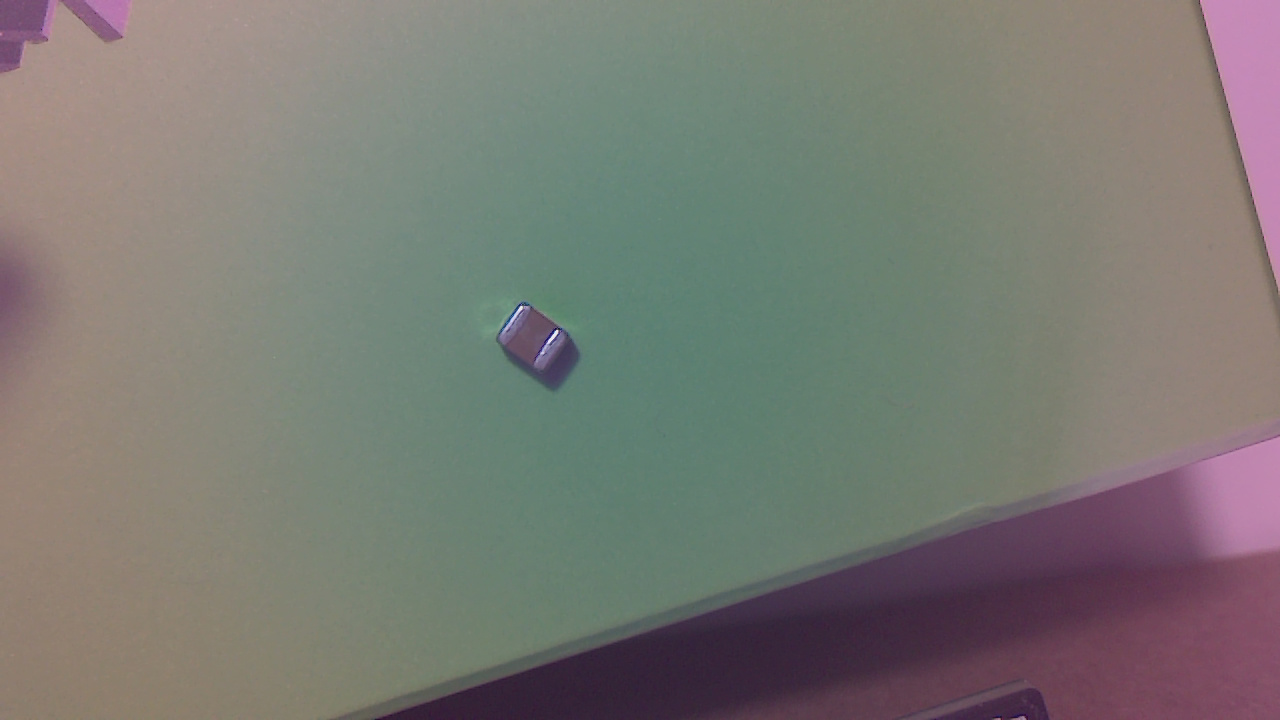Condensator: (501, 307, 578, 390)
